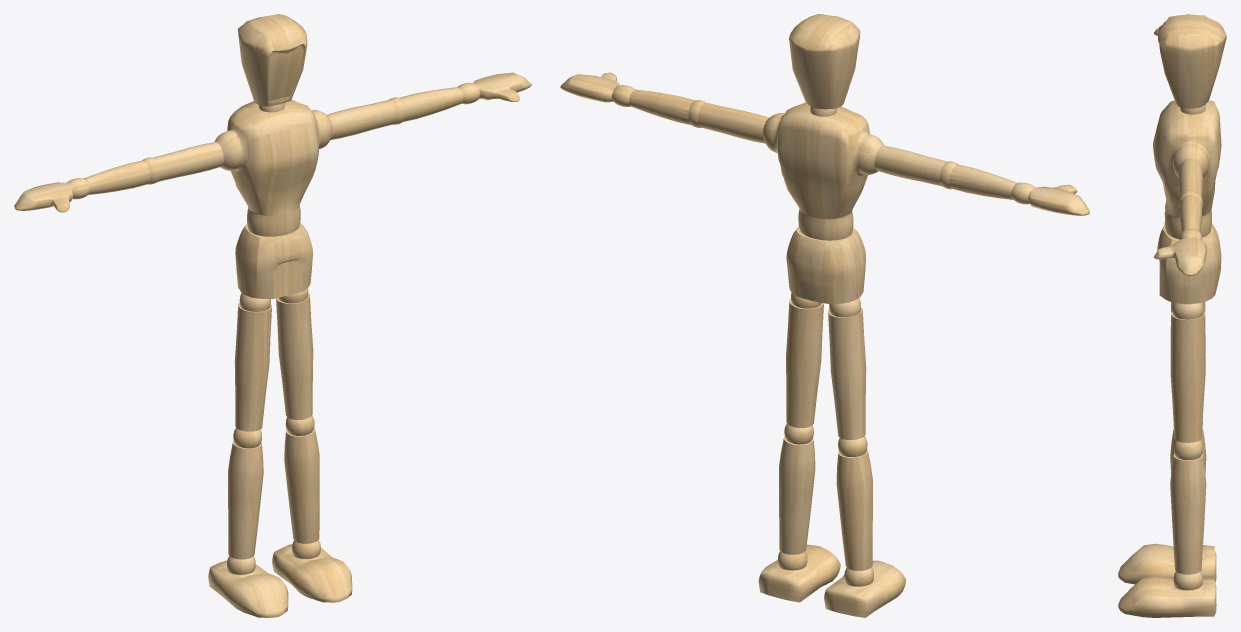
The picture shows the model from 3 angles, left to right: view 1: azimuth 30°, elevation 25°; view 2: azimuth 150°, elevation 25°; view 3: azimuth 270°, elevation 25°; orthographic projection. The views are drawn at different scales.
Parts seen in each view (by area): view 1: manichino_geo; view 2: manichino_geo; view 3: manichino_geo.
Part boxes in pixels (x1,y1,x2,y2): manichino_geo: [14, 14, 531, 617]; manichino_geo: [560, 14, 1089, 617]; manichino_geo: [1118, 14, 1226, 617].
Bounding box in the file's own units: 6.73 × 7.03 × 1.21.
Materials: 1 (1 with a texture image).
